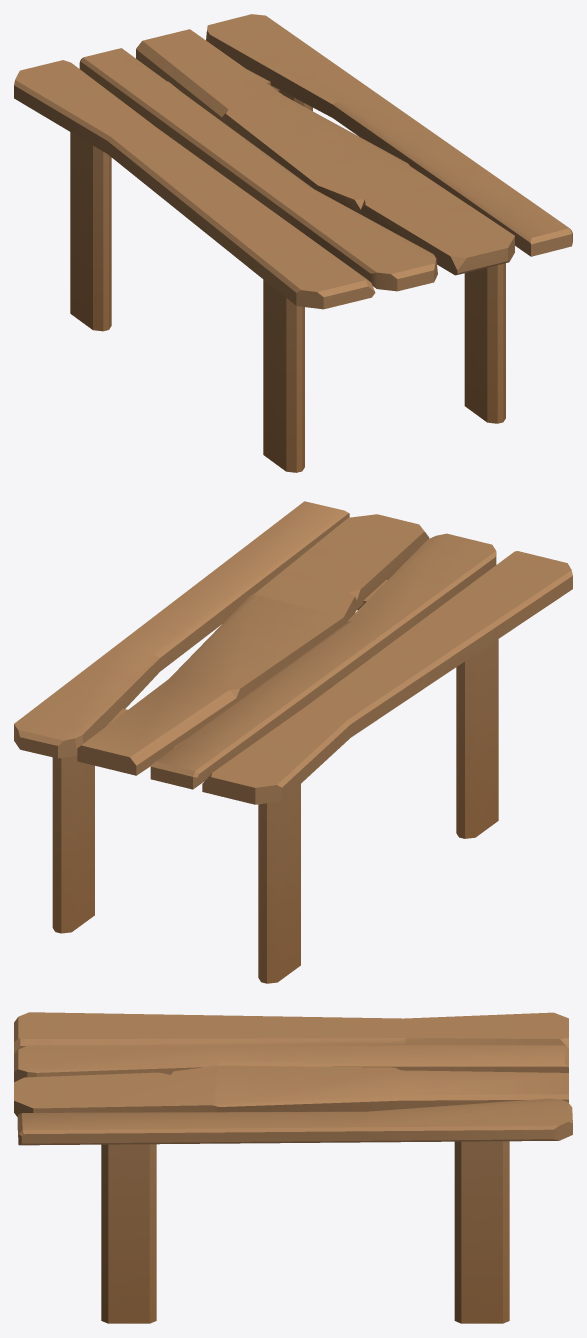
The model's file is Table01.fbx.
The picture shows the model from 3 angles, top to bottom: view 1: azimuth 30°, elevation 25°; view 2: azimuth 150°, elevation 25°; view 3: azimuth 270°, elevation 25°; orthographic projection. The views are drawn at different scales.
Parts seen in each view (by area): view 1: Table01; view 2: Table01; view 3: Table01.
Boxes of the visible parts, x1,y1,x2,y2 form: Table01: (14,14,572,472); Table01: (14,501,572,983); Table01: (14,1012,572,1323).
Bounding box in the file's own units: 1.03 × 2.01 × 0.7994.
